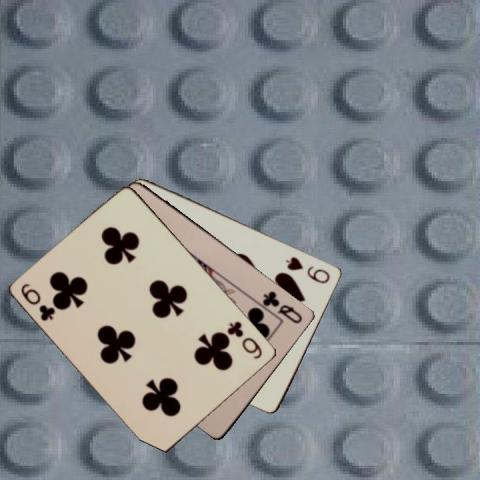6c: (225, 318, 264, 361), (18, 280, 57, 323)
9s: (283, 253, 332, 286)
Qc: (260, 288, 304, 326)
